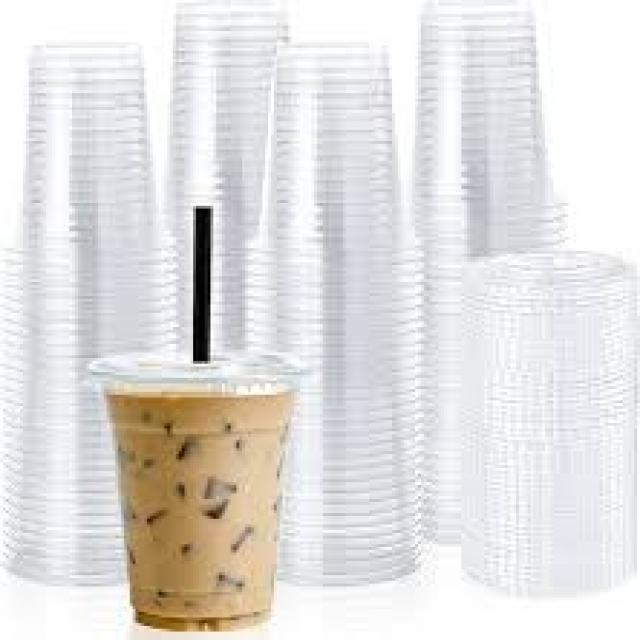bottle: (95, 357, 291, 628)
